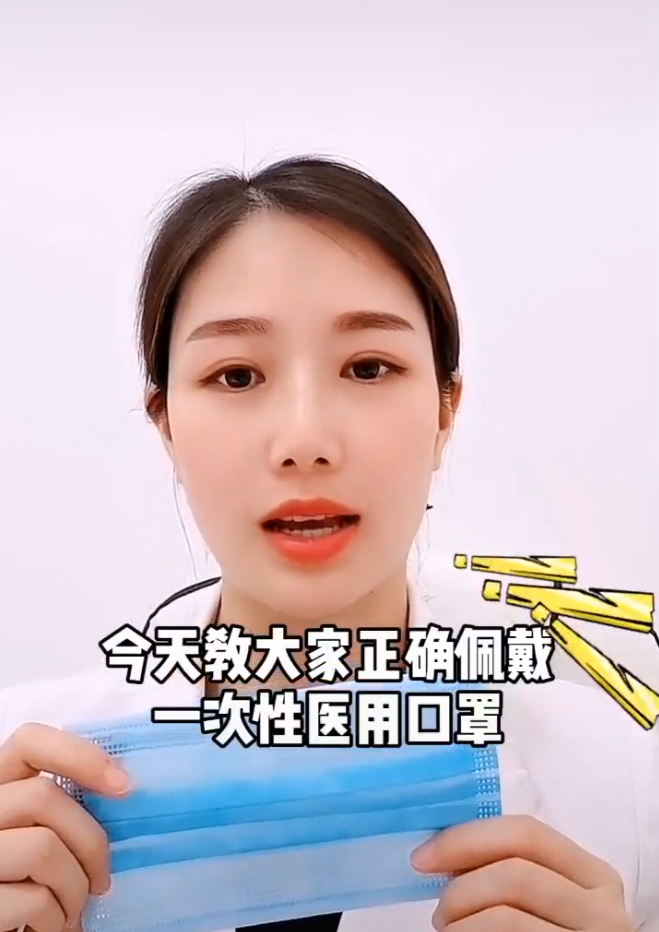face: (168, 221, 441, 618)
